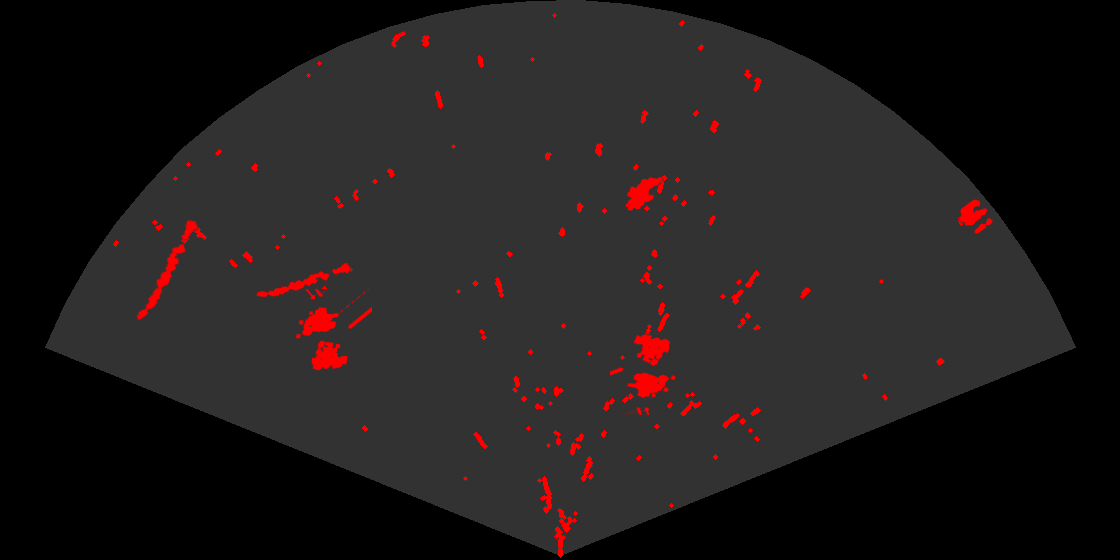AUV: (624, 175, 664, 212)
ball: (958, 198, 994, 235)
cage: (294, 289, 372, 372), (610, 333, 677, 415)
chain: (135, 218, 200, 322), (255, 261, 353, 299)
